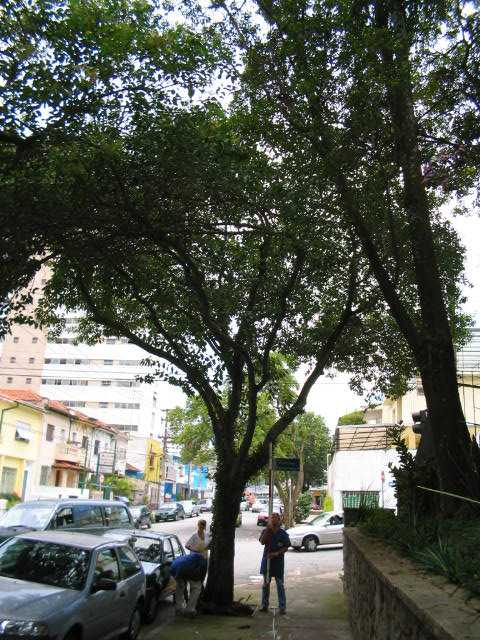crown: (11, 106, 468, 403)
stem: (405, 346, 480, 515), (197, 474, 251, 610)
stick: (260, 442, 276, 612)
tree: (9, 105, 470, 612), (269, 1, 480, 517)
